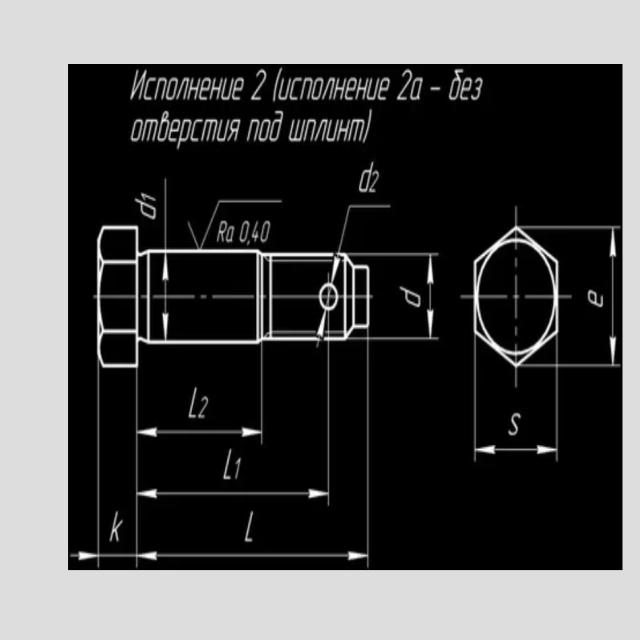marking_line: (137, 547, 369, 567), (138, 485, 328, 500), (608, 227, 621, 366), (139, 426, 260, 440), (474, 442, 556, 459), (159, 252, 175, 338), (423, 257, 439, 336), (324, 252, 347, 284), (313, 306, 330, 347), (71, 551, 98, 561)
numeric: (235, 213, 279, 245)
